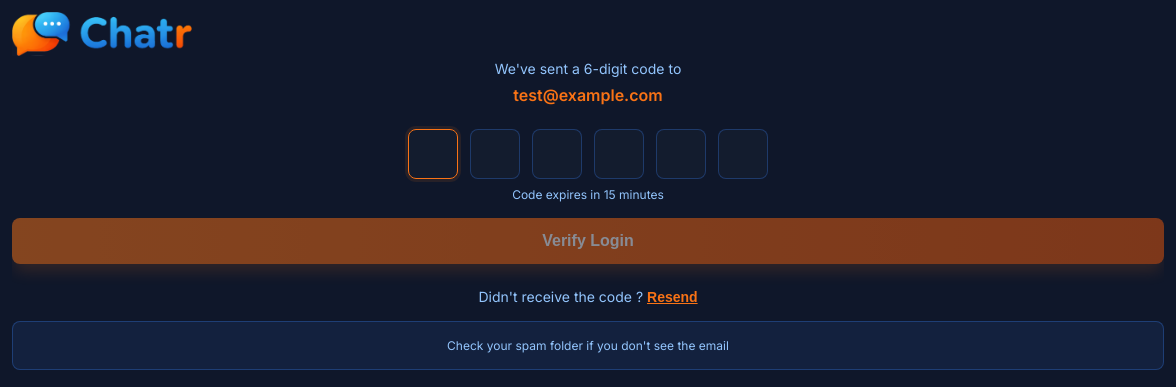
it: LoginVerification Component › handles resend click
What coordinates should you click on to do the following:
click the button "Resend"
I would click on:
 (672, 297)
Its box is x1=647 y1=289 x2=698 y2=305.
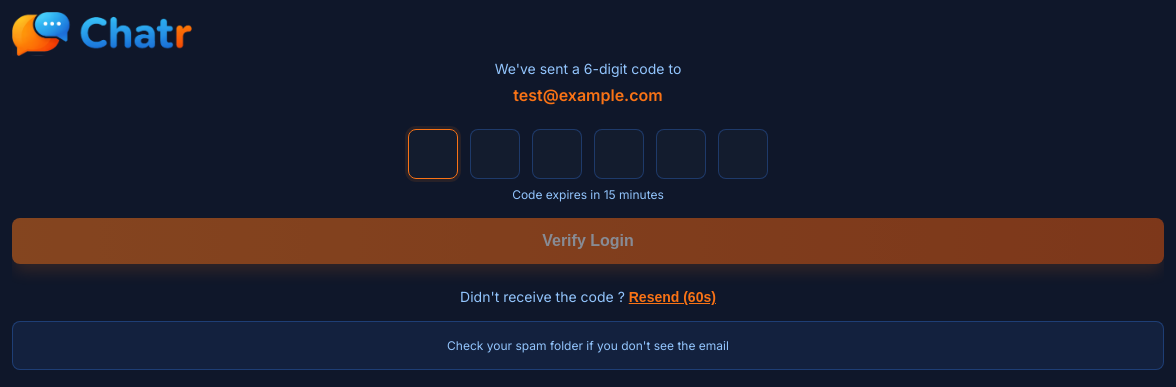
Now the button "Resend (60s)" is shown, box x1=629 y1=289 x2=716 y2=305
